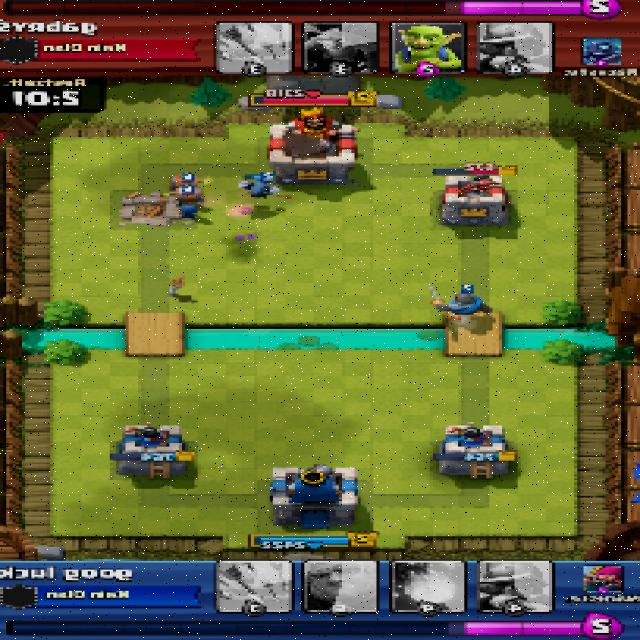Player-Knight: (432, 293, 496, 320)
Player-Minion: (244, 181, 274, 198)
Player-Wallbreaker: (172, 189, 206, 220), (170, 176, 200, 198)
